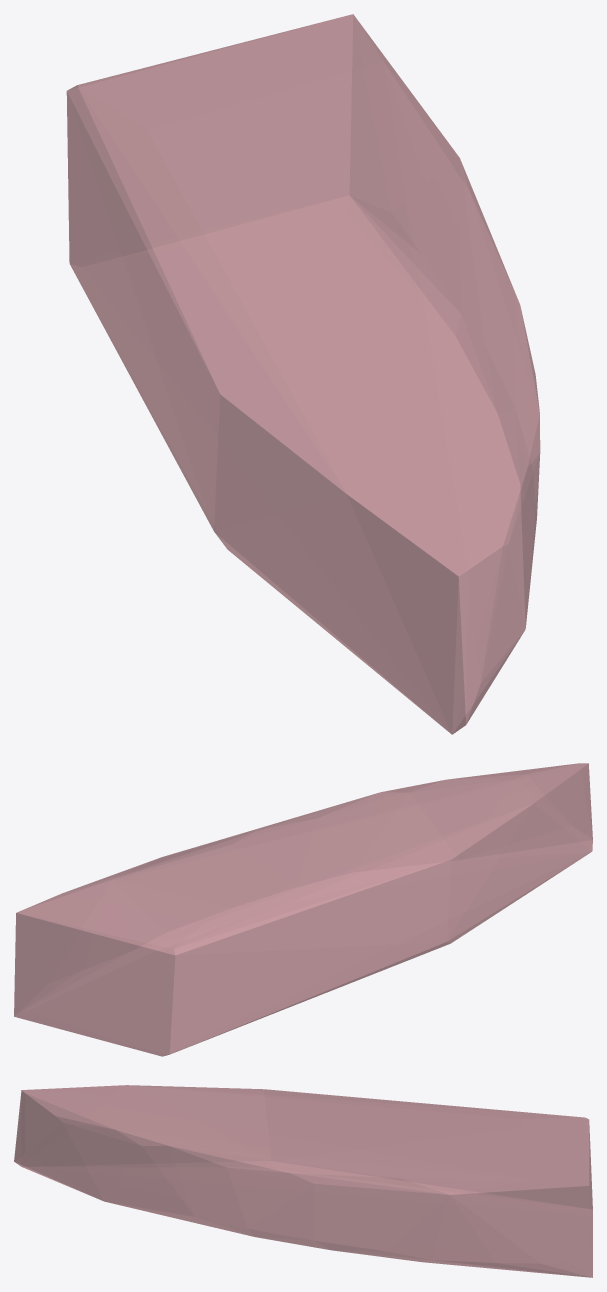
The picture shows the model from 3 angles, top to bottom: view 1: azimuth 30°, elevation 25°; view 2: azimuth 150°, elevation 25°; view 3: azimuth 270°, elevation 25°; orthographic projection. The views are drawn at different scales.
Parts seen in each view (by area): view 1: Shape_IndexedFaceSet.004_Shape_IndexedFaceSet.5539; view 2: Shape_IndexedFaceSet.004_Shape_IndexedFaceSet.5539; view 3: Shape_IndexedFaceSet.004_Shape_IndexedFaceSet.5539.
Part boxes in pixels (x1=…): Shape_IndexedFaceSet.004_Shape_IndexedFaceSet.5539: x1=66, y1=14, x2=540, y2=734; Shape_IndexedFaceSet.004_Shape_IndexedFaceSet.5539: x1=14, y1=763, x2=592, y2=1056; Shape_IndexedFaceSet.004_Shape_IndexedFaceSet.5539: x1=14, y1=1085, x2=592, y2=1277.
Size of the model in its own units: 0.2755 by 0.1072 by 0.5893.
